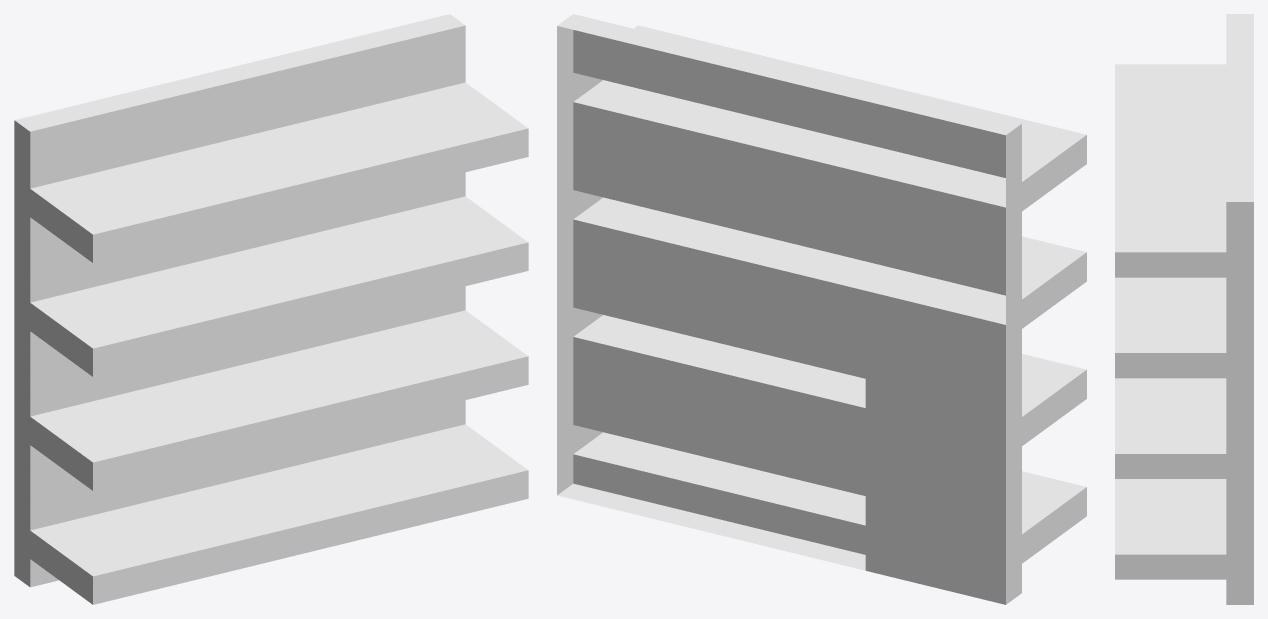
File: Polka2.dae
The picture shows the model from 3 angles, left to right: view 1: azimuth 30°, elevation 25°; view 2: azimuth 150°, elevation 25°; view 3: azimuth 270°, elevation 25°; orthographic projection. The views are drawn at different scales.
Parts seen in each view (by area): view 1: Polka; view 2: Polka; view 3: Polka.
Boxes of the visible parts, <box> form: Polka: <box>14,14,528,604</box>; Polka: <box>557,14,1086,604</box>; Polka: <box>1115,14,1253,604</box>.
Size of the model in its own units: 16 by 16 by 5.
